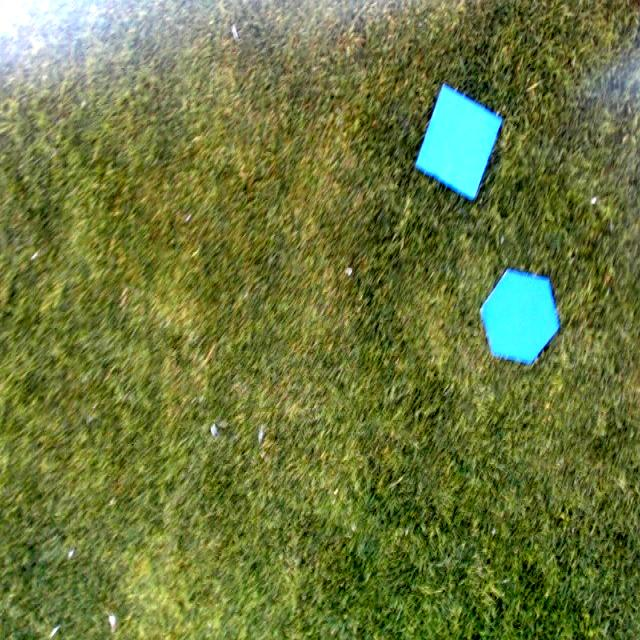blue_hexagon: (481, 272, 560, 362)
blue_square: (416, 85, 501, 199)
